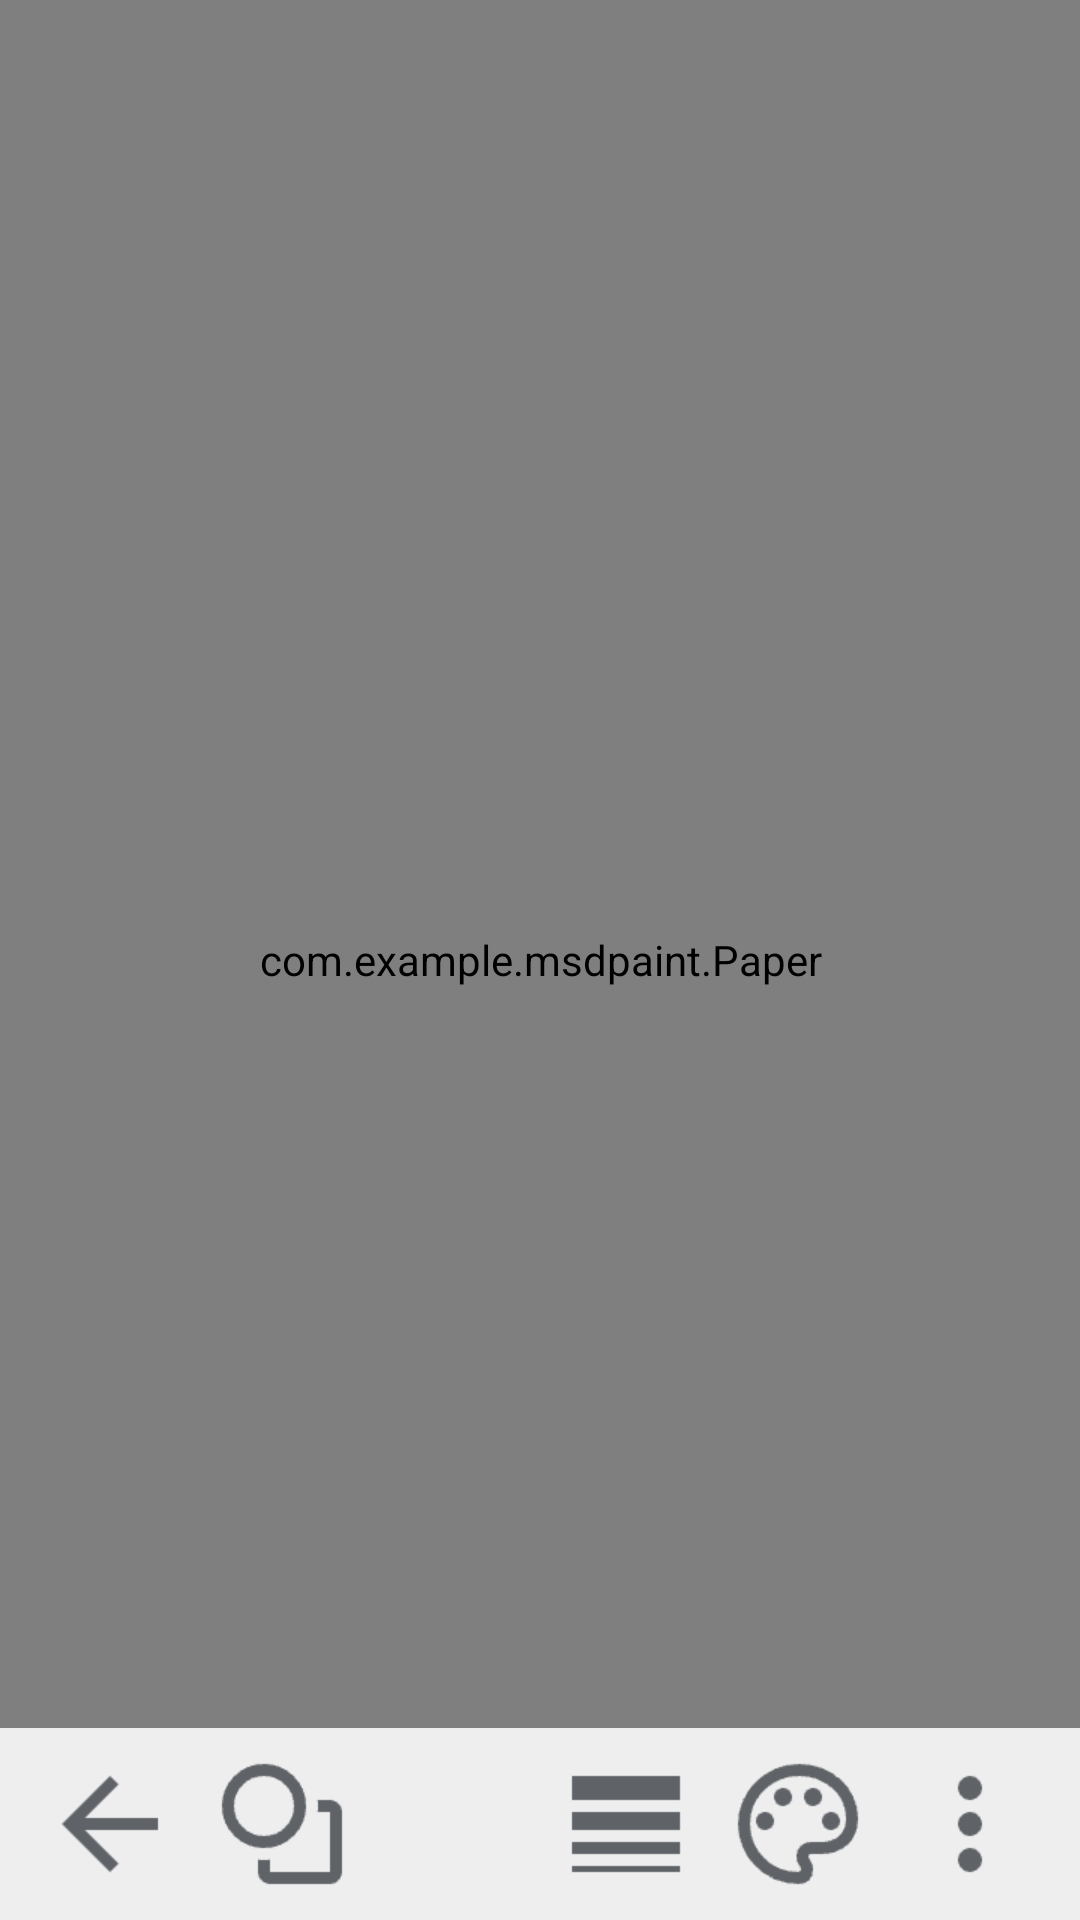

Named icons in this screenshot (1080x1920) and their centers, [x,y]:
Back to home arrow button: [110,1824]
More options: [970,1824]
Select Brush Width: [626,1824]
Select Color: [798,1824]
Select Shape: [282,1824]
